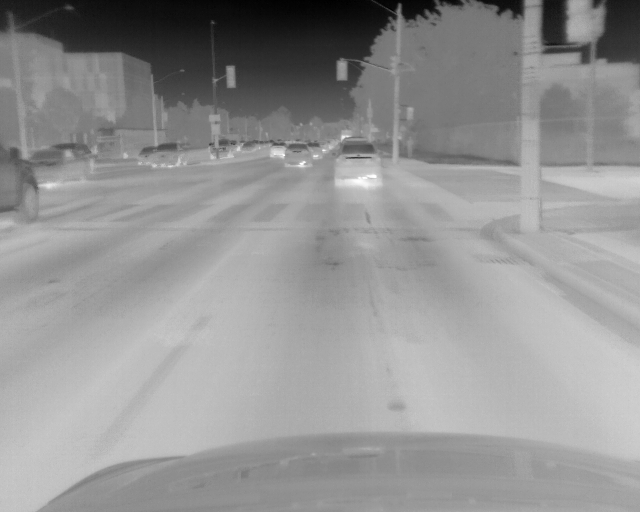car: (1, 142, 41, 221), (26, 140, 94, 184), (333, 138, 382, 187), (153, 142, 188, 168), (283, 142, 311, 167), (208, 141, 234, 161), (138, 146, 154, 165), (270, 143, 286, 157), (309, 143, 322, 160), (242, 141, 256, 153), (319, 141, 328, 154), (256, 141, 265, 150)
people: (404, 135, 414, 159)
